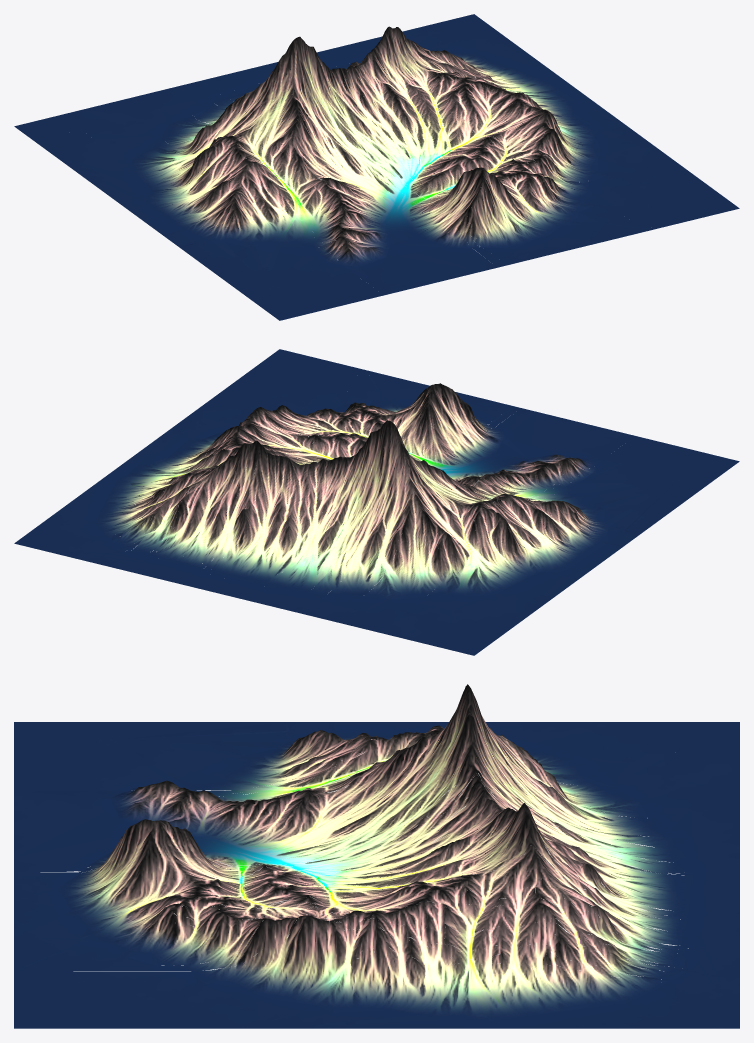
The model's file is ShiveringHeights.gltf.
3 views of the same model, one above another, from view 1: azimuth 30°, elevation 25°; view 2: azimuth 150°, elevation 25°; view 3: azimuth 270°, elevation 25° (orthographic). The views are drawn at different scales.
Visible parts, largest first — view 1: Object_5; view 2: Object_5; view 3: Object_5.
Part boxes in pixels (box(x1,y1,x2,y2)): Object_5: box(14, 14, 739, 320); Object_5: box(14, 349, 739, 655); Object_5: box(14, 684, 739, 1028).
Size of the model in its own units: 1 by 0.2438 by 1.
